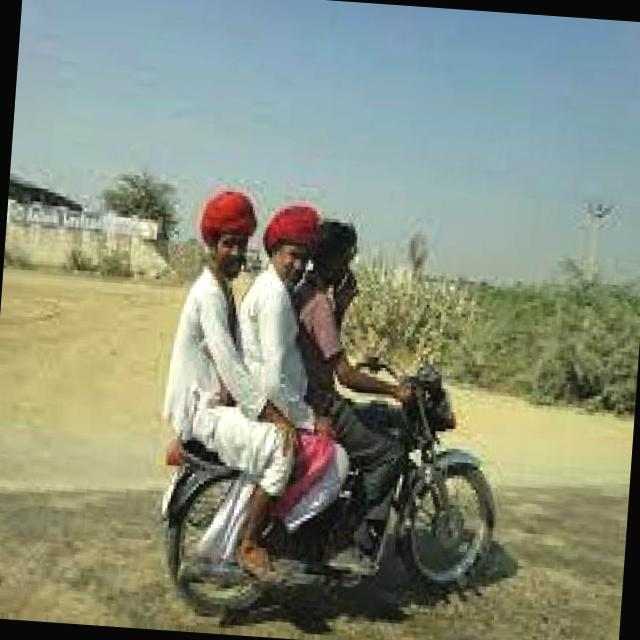motorcycle: (147, 340, 514, 640)
person: (152, 182, 276, 546), (272, 215, 389, 560), (218, 192, 342, 481)
rider_region: (145, 185, 522, 640)
